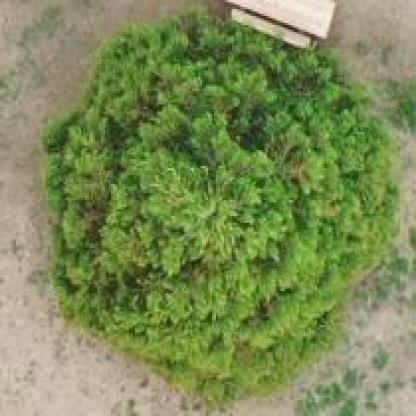Coniferous Tree: (37, 46, 401, 406)
